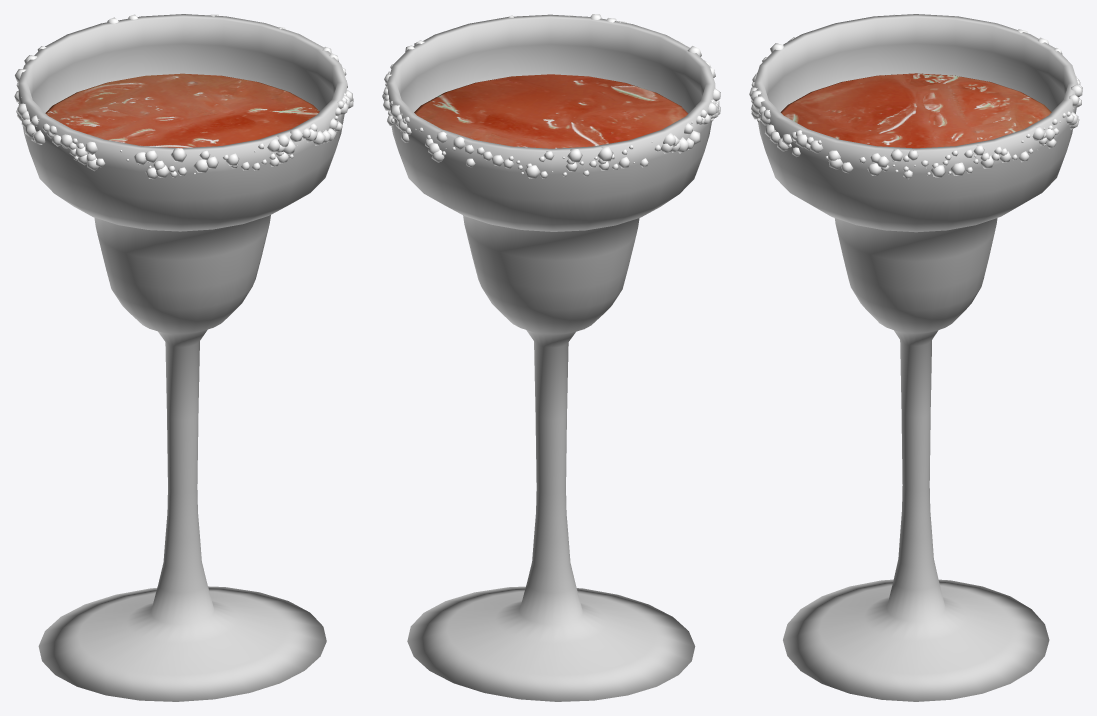
The model's file is margarita.fbx.
The picture shows the model from 3 angles, left to right: view 1: azimuth 30°, elevation 25°; view 2: azimuth 150°, elevation 25°; view 3: azimuth 270°, elevation 25°; orthographic projection.
Parts seen in each view (by area): view 1: Cylinder, Cylinder.001, Icosphere.045; view 2: Cylinder, Cylinder.001, Icosphere.045; view 3: Cylinder, Cylinder.001, Icosphere.045.
Part boxes in pixels (x1,y1,x2,y2): Cylinder: [18, 14, 346, 701]; Cylinder.001: [45, 73, 319, 148]; Icosphere.045: [14, 14, 353, 179]; Cylinder: [387, 14, 715, 701]; Cylinder.001: [414, 74, 688, 148]; Icosphere.045: [382, 14, 720, 178]; Cylinder: [754, 14, 1077, 701]; Cylinder.001: [780, 73, 1051, 148]; Icosphere.045: [749, 14, 1082, 178].
Bounding box in the file's own units: 399 × 728 × 393.
3 materials, 1 textured.
